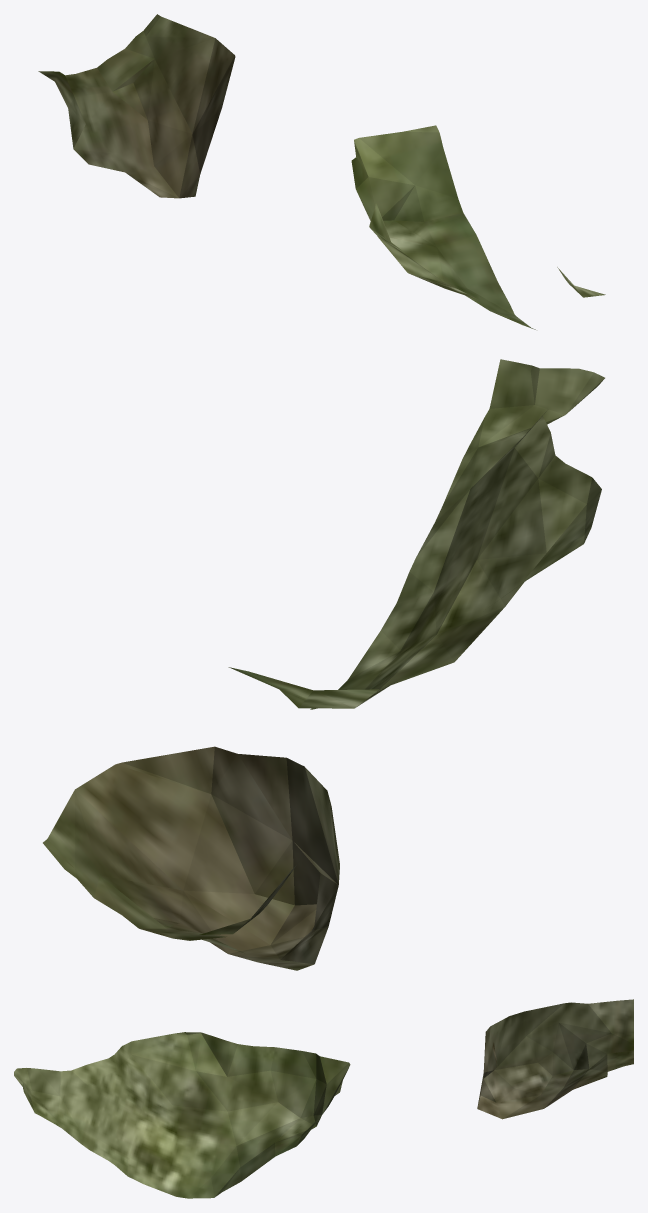
3 views of the same model, one above another, from view 1: azimuth 30°, elevation 25°; view 2: azimuth 150°, elevation 25°; view 3: azimuth 270°, elevation 25° (orthographic). The views are drawn at different scales.
Size of the model in its own units: 0.9322 by 0.4961 by 2.63.
Materials: 1 (1 with a texture image).
